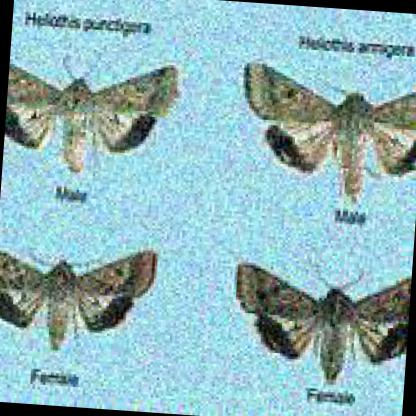helicoverpa: (244, 63, 416, 202), (238, 266, 408, 386), (6, 66, 178, 175), (0, 249, 157, 353)
